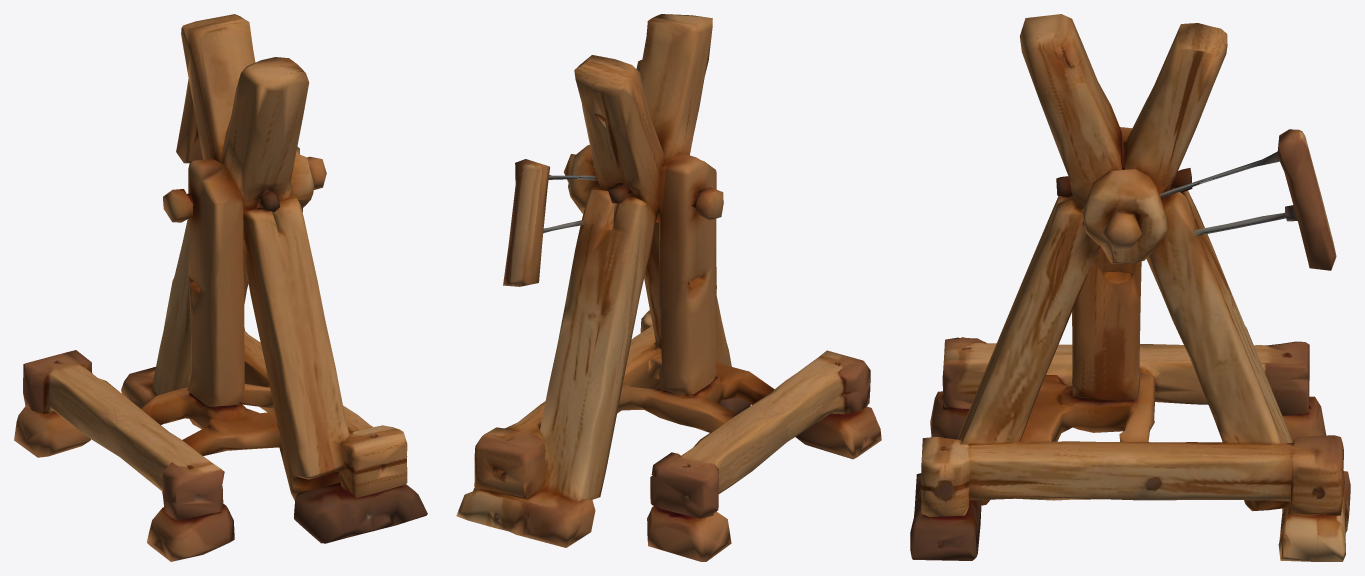
Rendered from catapult.glb.
The picture shows the model from 3 angles, left to right: view 1: azimuth 30°, elevation 25°; view 2: azimuth 150°, elevation 25°; view 3: azimuth 270°, elevation 25°; orthographic projection. The views are drawn at different scales.
Parts seen in each view (by area): view 1: tripo_node_c4f74049-5639-4154-8872-610ca0e5409a; view 2: tripo_node_c4f74049-5639-4154-8872-610ca0e5409a; view 3: tripo_node_c4f74049-5639-4154-8872-610ca0e5409a.
Part boxes in pixels (<box>): tripo_node_c4f74049-5639-4154-8872-610ca0e5409a: <box>14,14,427,561</box>; tripo_node_c4f74049-5639-4154-8872-610ca0e5409a: <box>456,14,881,561</box>; tripo_node_c4f74049-5639-4154-8872-610ca0e5409a: <box>910,14,1350,561</box>.
Size of the model in its own units: 0.5979 by 1 by 0.8153.
Materials: 1 (1 with a texture image).
